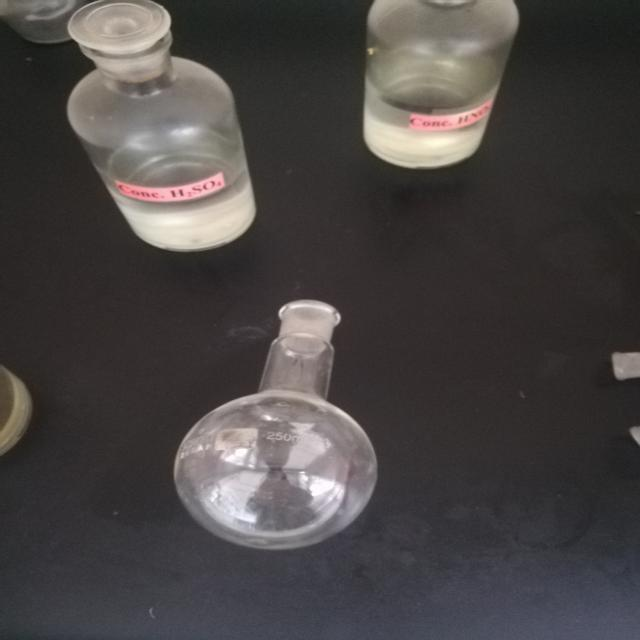Round_Bottom_Flask_Borosilicate_Glass_1_Neck: (125, 273, 452, 591)
